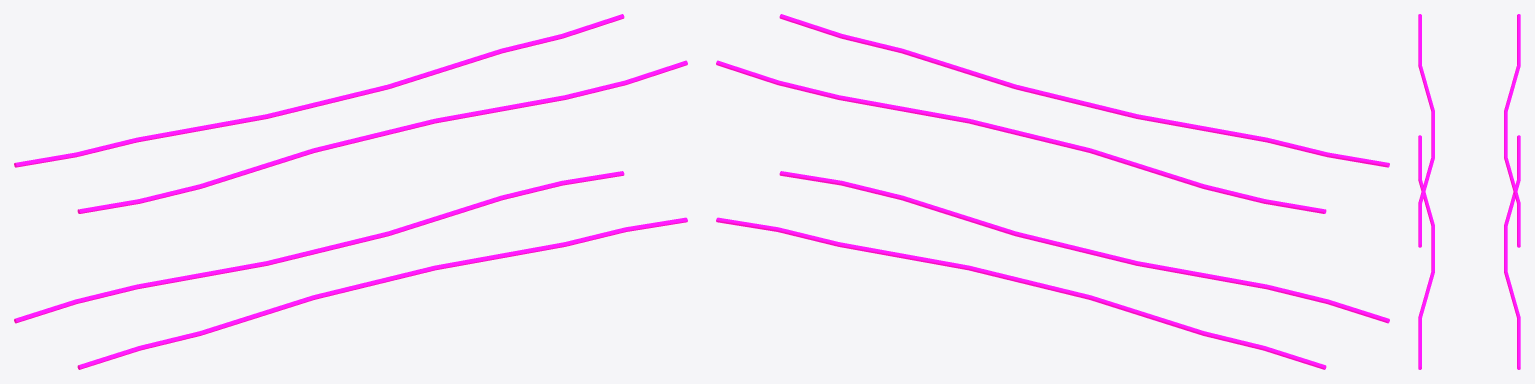
File: cyl.fbx
3 renders of one model, left to right at view 1: azimuth 30°, elevation 25°; view 2: azimuth 150°, elevation 25°; view 3: azimuth 270°, elevation 25°, orthographic. The views are drawn at different scales.
Parts seen in each view (by area): view 1: Cylinder; view 2: Cylinder; view 3: Cylinder.
Boxes of the visible parts, <box> form: Cylinder: <box>14,14,687,369</box>; Cylinder: <box>716,14,1389,369</box>; Cylinder: <box>1418,14,1520,369</box>.
Size of the model in its own units: 779 by 198 by 146.
